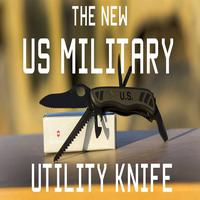knife: (41, 112, 176, 158), (27, 80, 171, 116)
